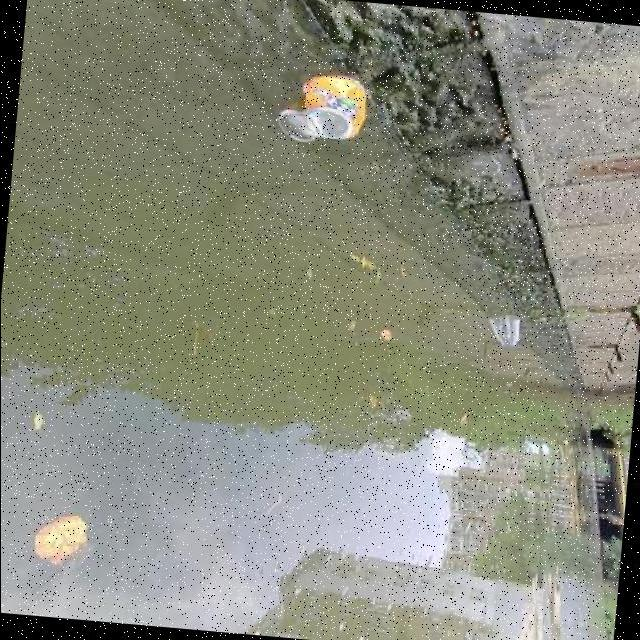Can: (276, 72, 367, 142)
